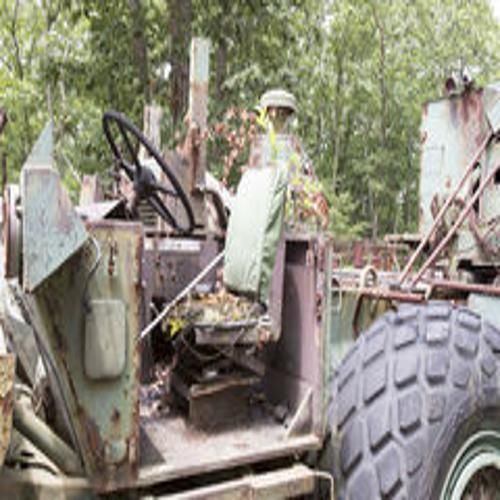con_eq: (9, 102, 500, 500)
